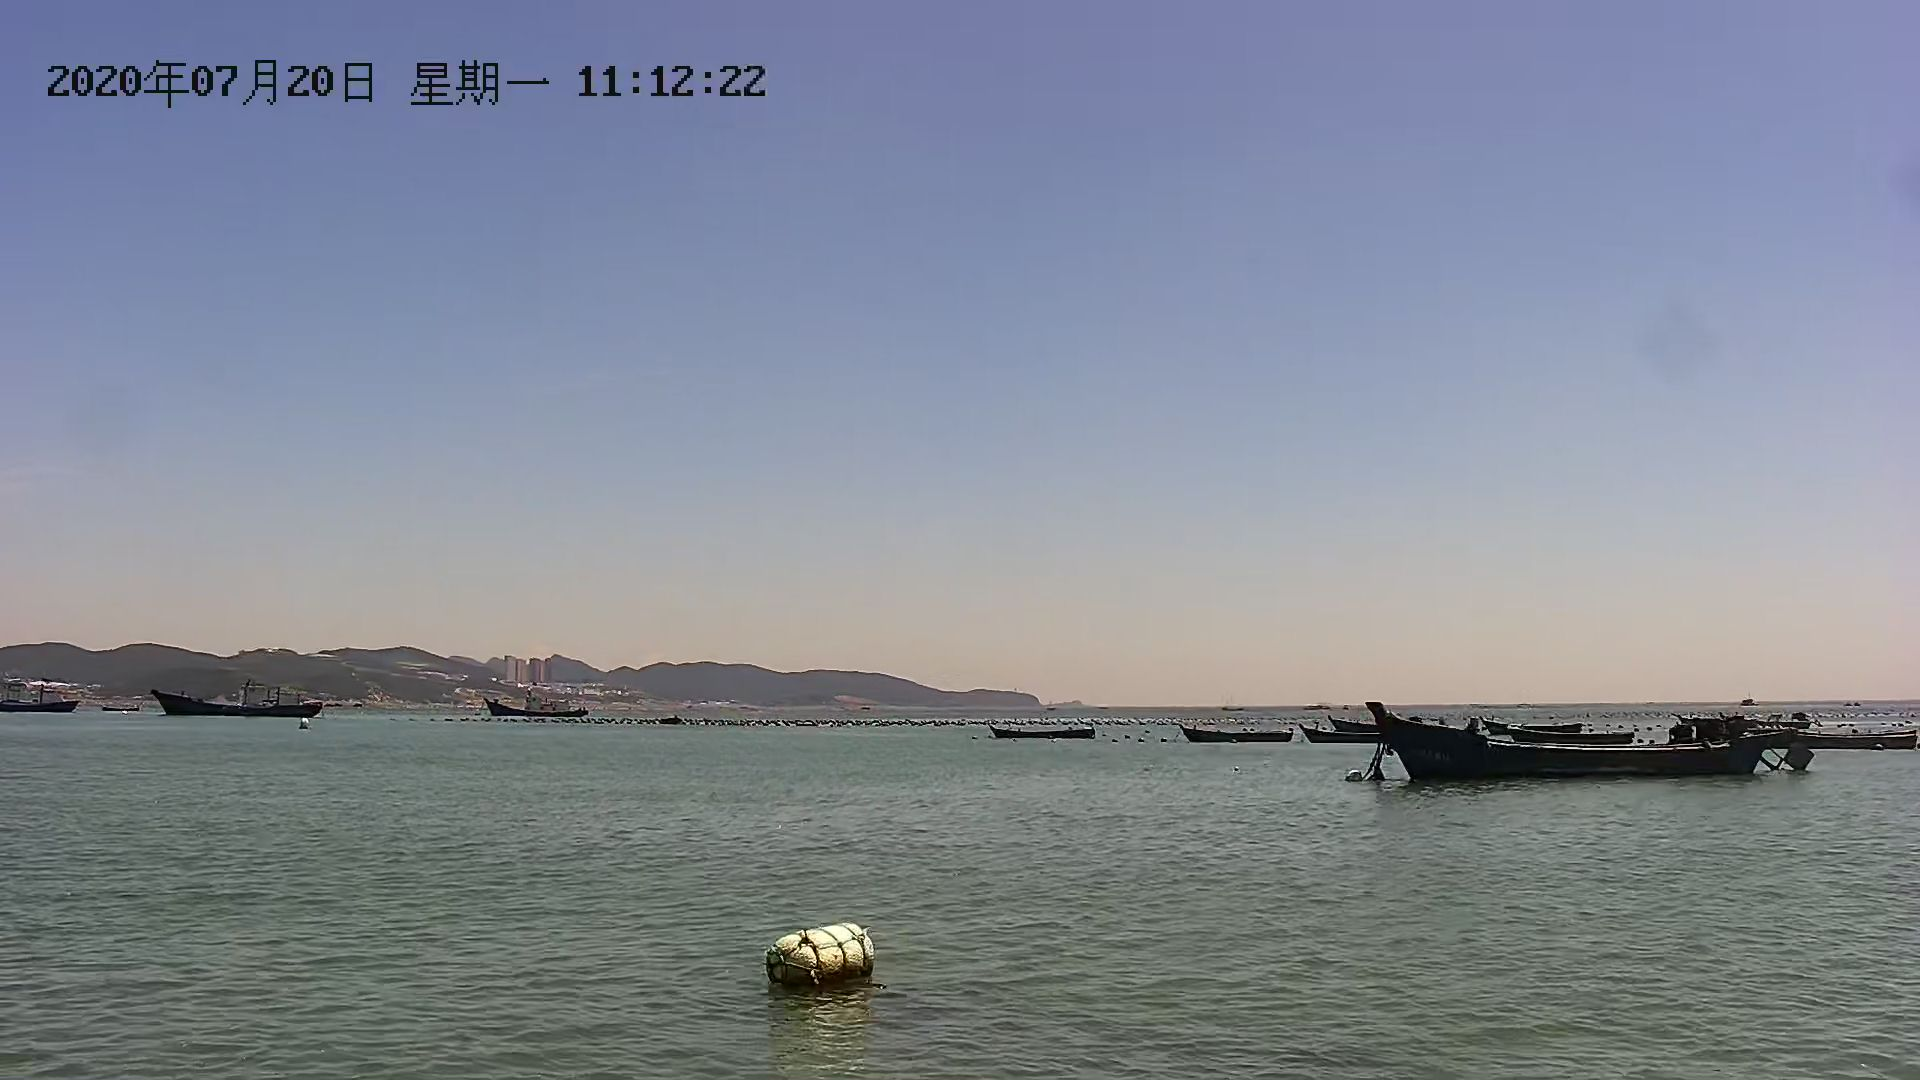boat: (1352, 715, 1799, 783), (1768, 716, 1920, 758), (149, 686, 328, 720), (1495, 705, 1622, 741), (1178, 720, 1300, 746), (475, 696, 597, 721), (1288, 715, 1393, 741), (985, 721, 1101, 742), (1, 684, 95, 708)
rock: (11, 640, 1102, 735)
rubbish: (766, 920, 891, 984)
